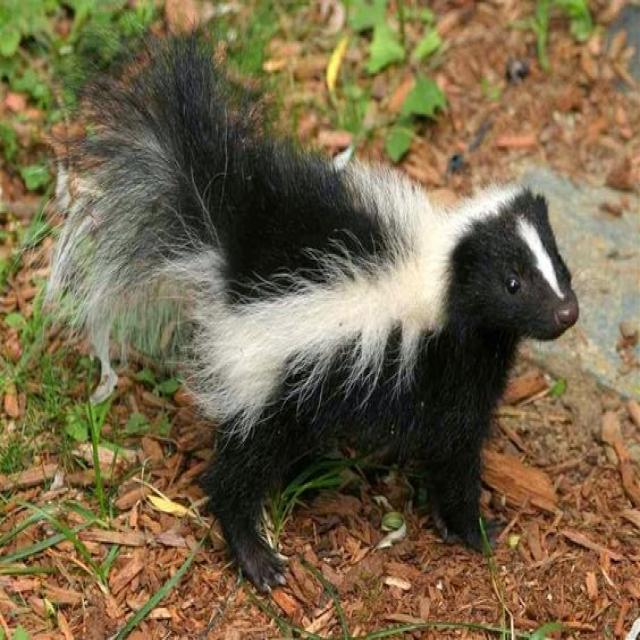Skunk: (61, 99, 578, 612)
